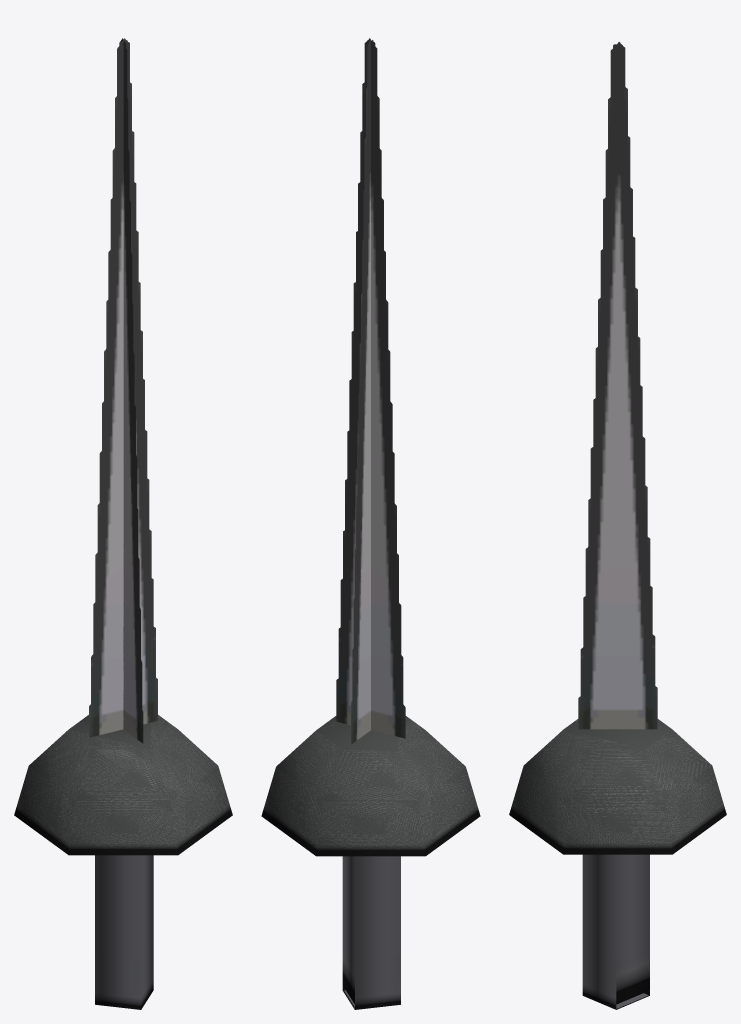
Rendered from c_buki3.tri.dae.
3 views of the same model, side by side, from view 1: azimuth 30°, elevation 25°; view 2: azimuth 150°, elevation 25°; view 3: azimuth 270°, elevation 25° (orthographic).
Visible parts, largest first — view 1: dai1_base_pSphere9, dai1_base_pPlane80, dai1_base_pPlane79, dai1_base_pCube3, dai1_base_pPlane56, dai1_base_pSphere8, dai1_base_pPlane55; view 2: dai1_base_pSphere9, dai1_base_pPlane80, dai1_base_pPlane79, dai1_base_pCube3, dai1_base_pPlane56, dai1_base_pSphere8, dai1_base_pPlane55; view 3: dai1_base_pPlane56, dai1_base_pSphere9, dai1_base_pPlane55, dai1_base_pCube3, dai1_base_pSphere8.
Part boxes in pixels (left/top/right/bottom): dai1_base_pSphere9: left=14, top=715, right=232, bottom=855; dai1_base_pPlane80: left=89, top=38, right=157, bottom=737; dai1_base_pPlane79: left=90, top=39, right=157, bottom=736; dai1_base_pCube3: left=95, top=855, right=153, bottom=1009; dai1_base_pPlane56: left=120, top=38, right=143, bottom=743; dai1_base_pSphere8: left=16, top=716, right=231, bottom=855; dai1_base_pPlane55: left=120, top=39, right=143, bottom=743; dai1_base_pSphere9: left=261, top=716, right=480, bottom=856; dai1_base_pPlane80: left=336, top=38, right=405, bottom=738; dai1_base_pPlane79: left=336, top=38, right=405, bottom=736; dai1_base_pCube3: left=342, top=856, right=400, bottom=1009; dai1_base_pPlane56: left=351, top=39, right=373, bottom=744; dai1_base_pSphere8: left=264, top=716, right=479, bottom=856; dai1_base_pPlane55: left=351, top=40, right=370, bottom=744; dai1_base_pPlane56: left=578, top=42, right=657, bottom=729; dai1_base_pSphere9: left=509, top=719, right=726, bottom=854; dai1_base_pPlane55: left=578, top=42, right=657, bottom=729; dai1_base_pCube3: left=582, top=854, right=649, bottom=1009; dai1_base_pSphere8: left=510, top=719, right=726, bottom=854.
Size of the model in its own units: 13.18 by 73.76 by 15.22.
4 materials, 4 textured.
